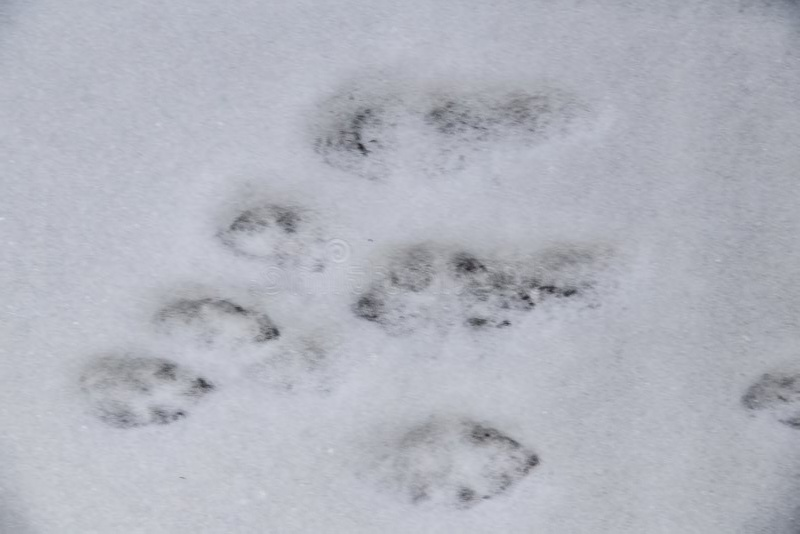rabbit: (58, 42, 619, 439)
